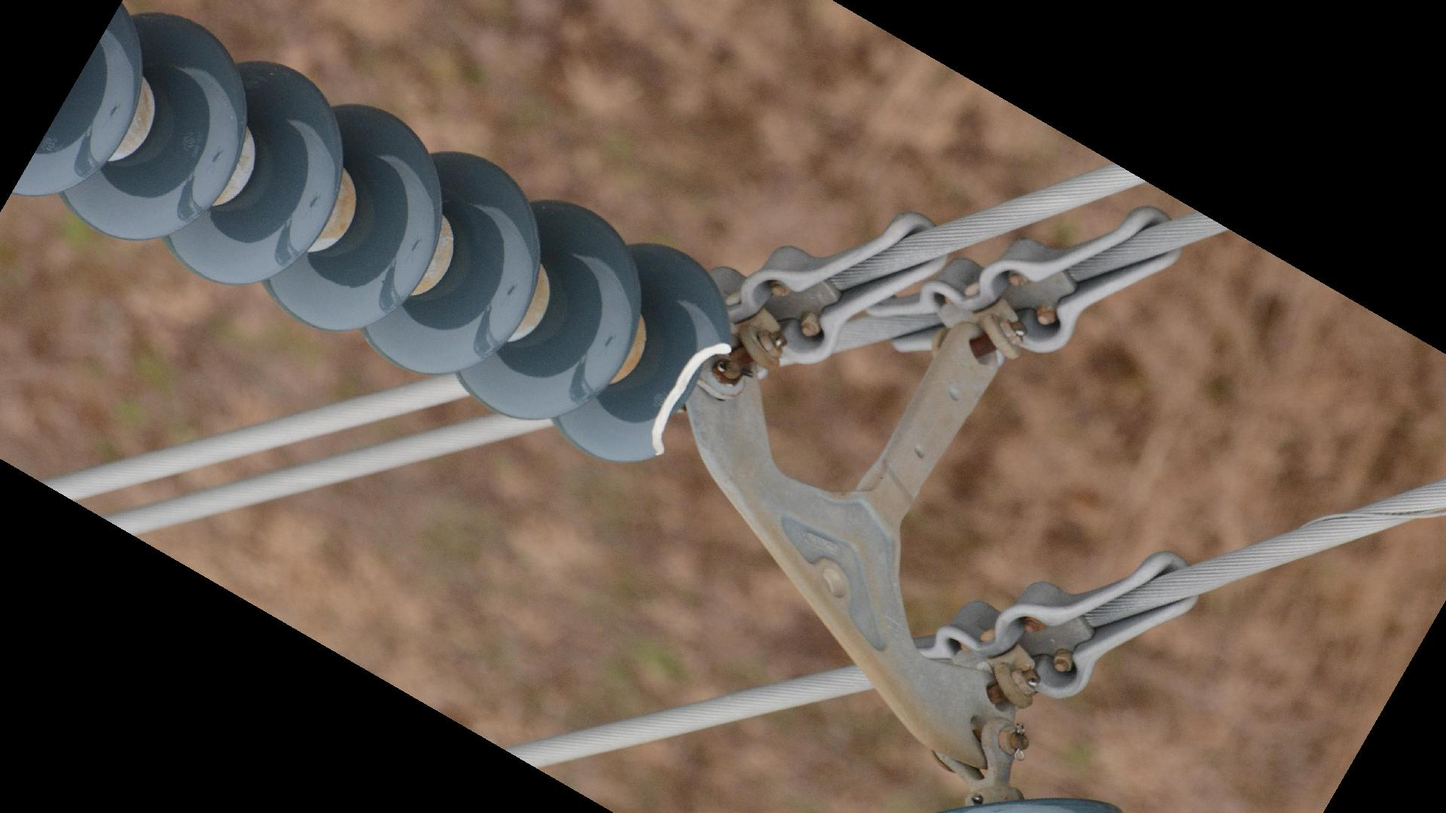insulator: (3, 1, 744, 474)
insulator_breakage: (645, 330, 737, 464)
